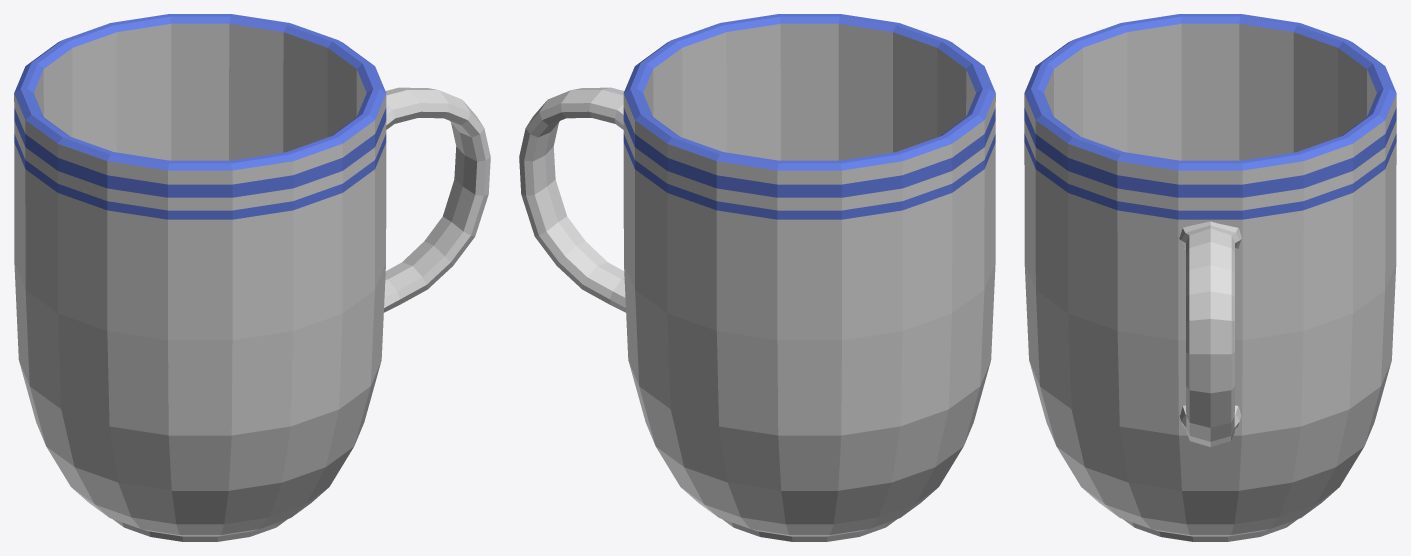
The model's file is Mug-1.fbx.
3 views of the same model, side by side, from view 1: azimuth 30°, elevation 25°; view 2: azimuth 150°, elevation 25°; view 3: azimuth 270°, elevation 25° (orthographic).
Visible parts, largest first — view 1: Mug1; view 2: Mug1; view 3: Mug1.
Boxes of the visible parts, left/top/right/bottom form: Mug1: left=14, top=14, right=490, bottom=541; Mug1: left=519, top=14, right=995, bottom=541; Mug1: left=1024, top=14, right=1396, bottom=541.
Bounding box in the file's own units: 0.1247 × 0.111 × 0.0909.
